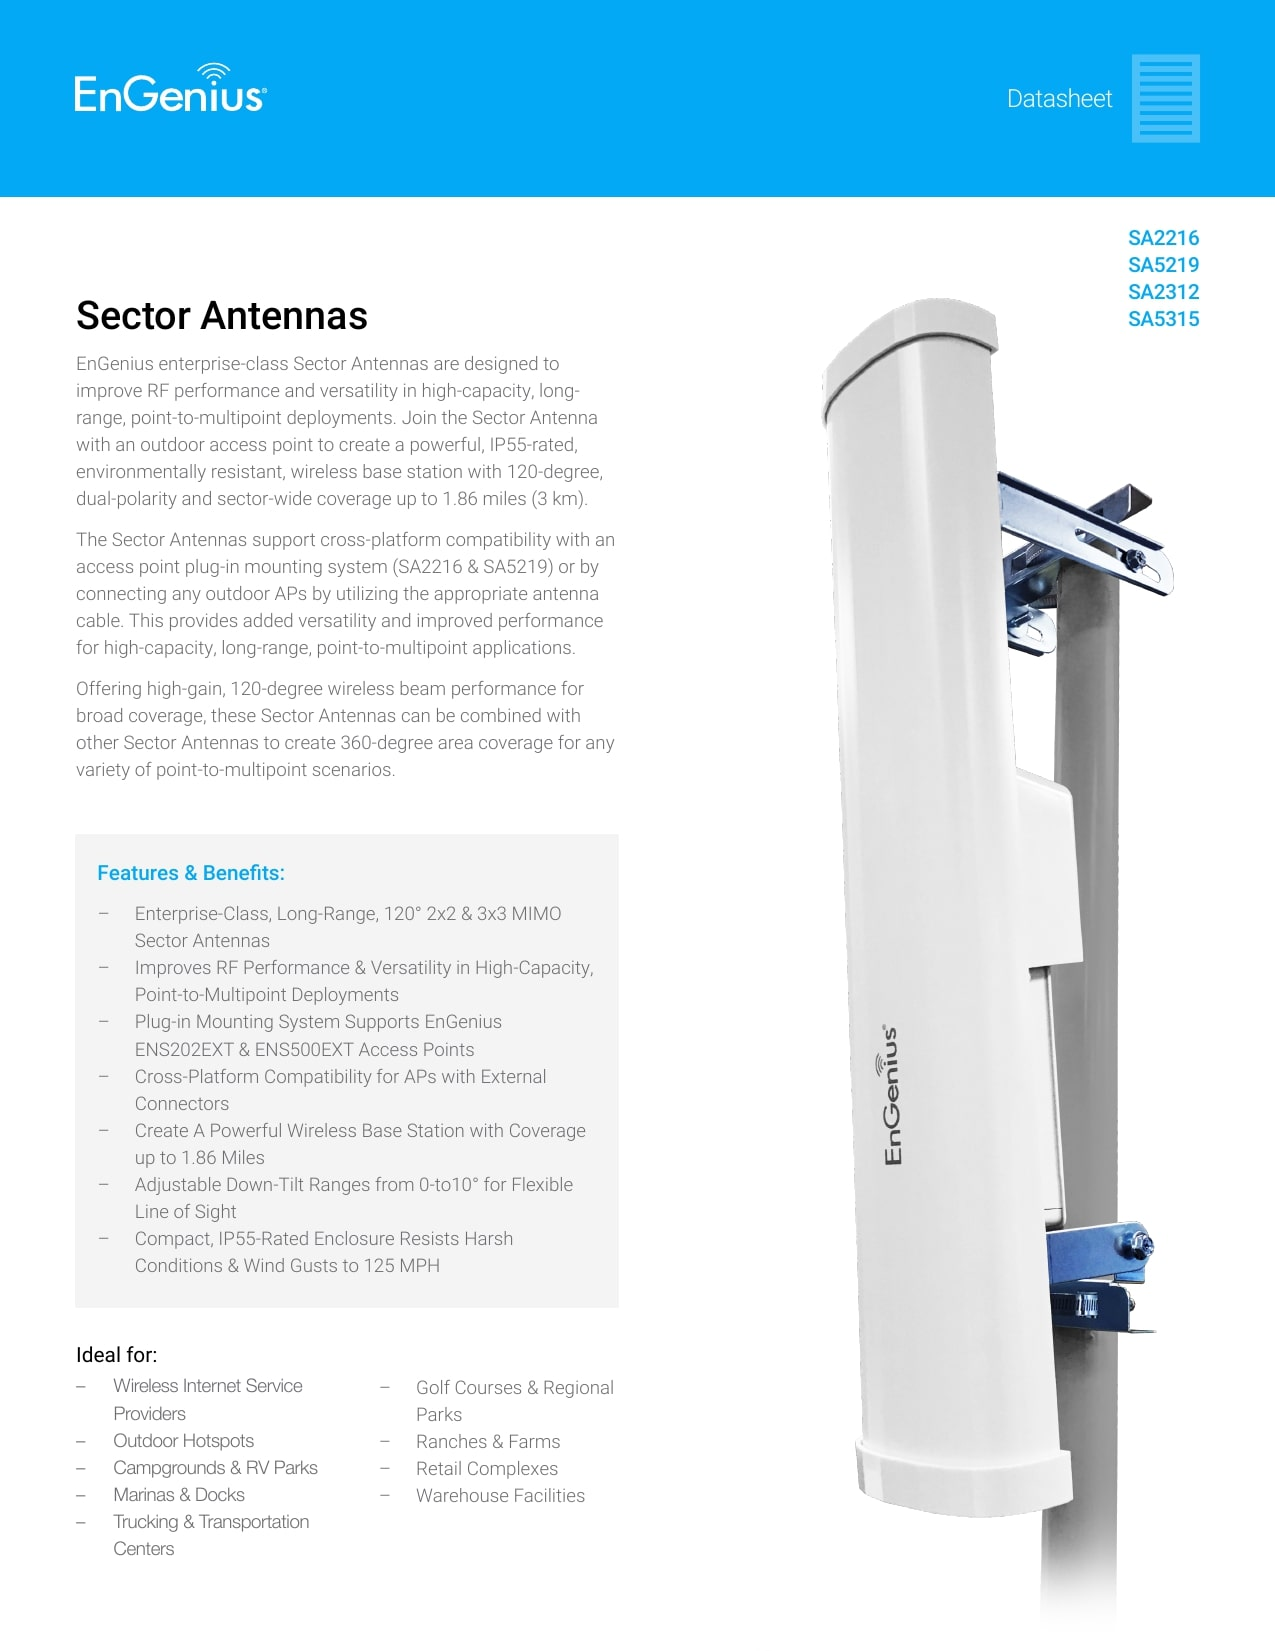sa: (793, 296, 1158, 1572)
